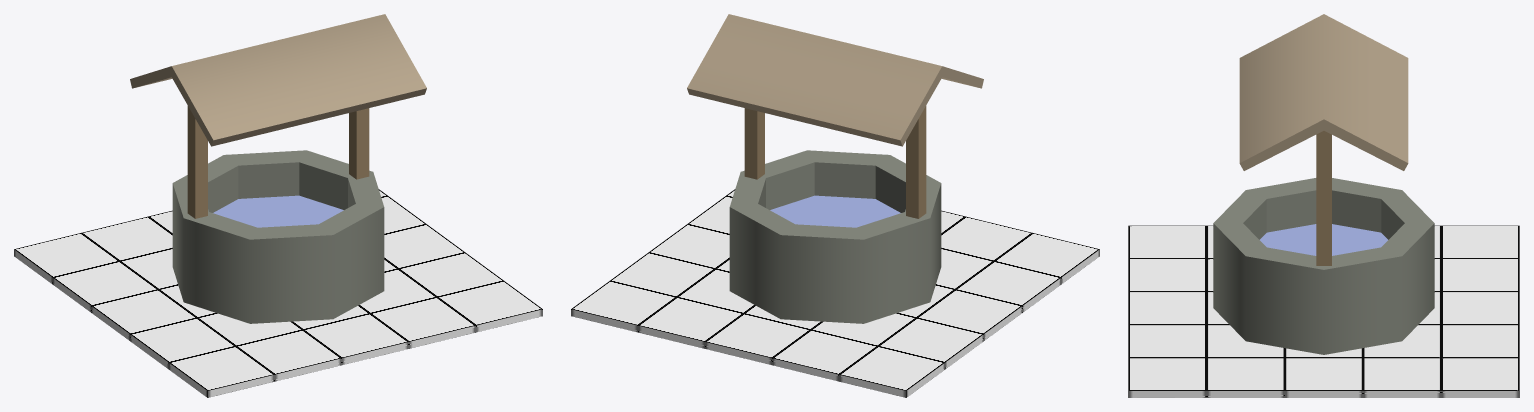
File: XG_Well.glb
3 renders of one model, left to right at view 1: azimuth 30°, elevation 25°; view 2: azimuth 150°, elevation 25°; view 3: azimuth 270°, elevation 25°, orthographic.
Parts seen in each view (by area): view 1: ground_5_x_5_009, Cylinder008, Plane038, well-water001, Box802, Box801; view 2: ground_5_x_5_009, Cylinder008, Plane038, well-water001, Box802, Box801; view 3: ground_5_x_5_009, Cylinder008, Plane038, well-water001, Box801.
Boxes of the visible parts, x1,y1,x2,y2 form: ground_5_x_5_009: (14,189,542,397); Cylinder008: (172,150,384,323); Plane038: (130,14,426,146); well-water001: (213,195,343,227); Box802: (187,106,207,218); Box801: (349,108,369,179); ground_5_x_5_009: (571,189,1099,397); Cylinder008: (729,150,941,323); Plane038: (687,14,983,146); well-water001: (770,195,900,227); Box802: (906,106,926,218); Box801: (744,108,764,179); ground_5_x_5_009: (1128,225,1519,397); Cylinder008: (1213,178,1434,354); Plane038: (1239,14,1408,170); well-water001: (1260,224,1387,255); Box801: (1316,131,1331,265).
Bounding box in the file's own units: 5 × 3.51 × 5.
Materials: 5 (1 with a texture image).
